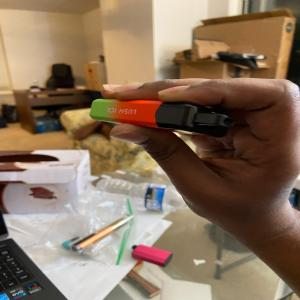Swift-E-Ciggirate: (85, 95, 242, 141)
